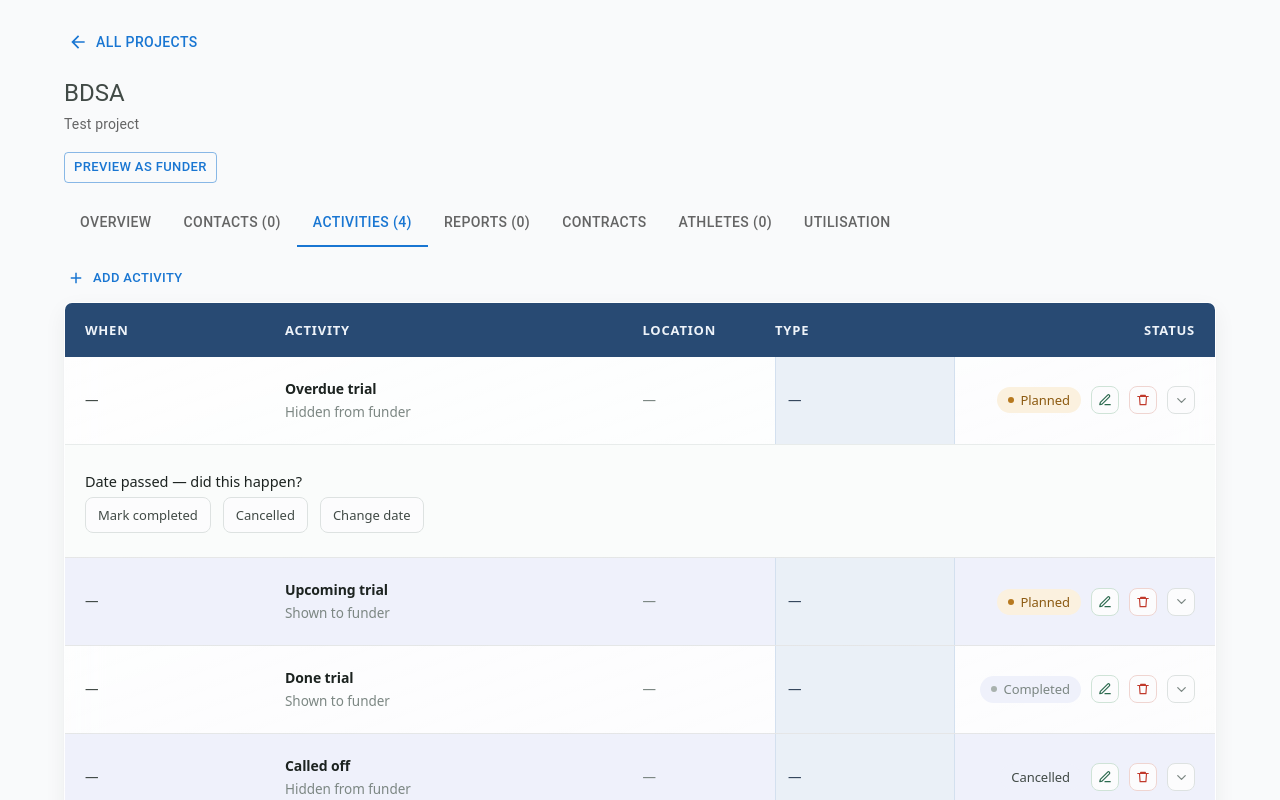
Test: a failed save is reported and the prompt stays
The image size is (1280, 800).
Check: the text "Overdue trial" is shown, box [285,379,376,398]
Click the button "Cancelled" at (265, 515), box [223,497,308,533]
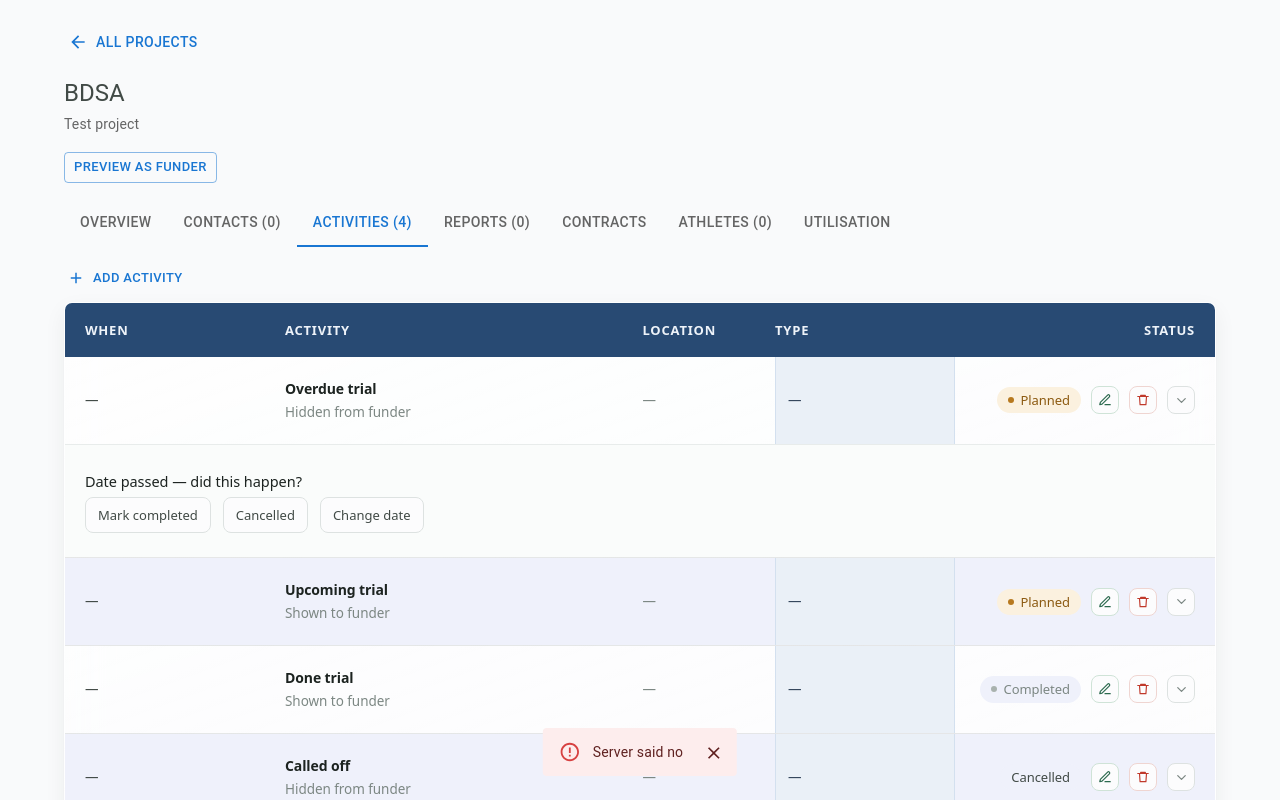
Check: the text "Server said no" is shown, box [593,744,683,760]
